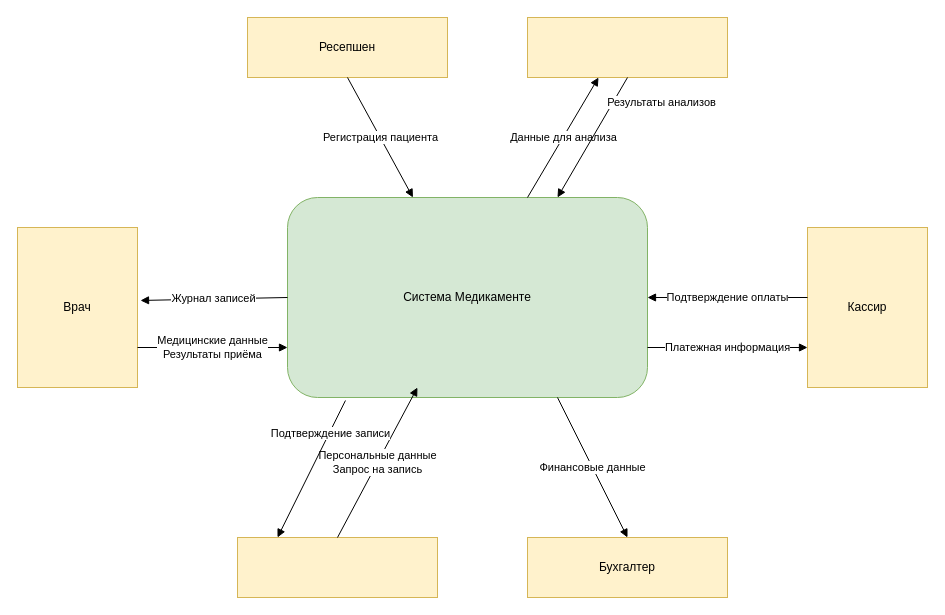
Image size: 945x615. Some labels were removed from this diagram. The shapes that lost their labels are listed below. From the top down, each one's centre as x and y in pixels, then its label:
the point at 627,47: Лаборатория
the point at 337,567: Пациент
